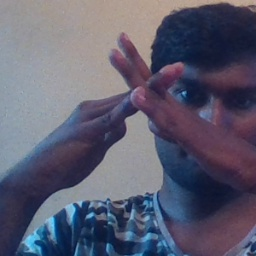W: (76, 27, 213, 168)
